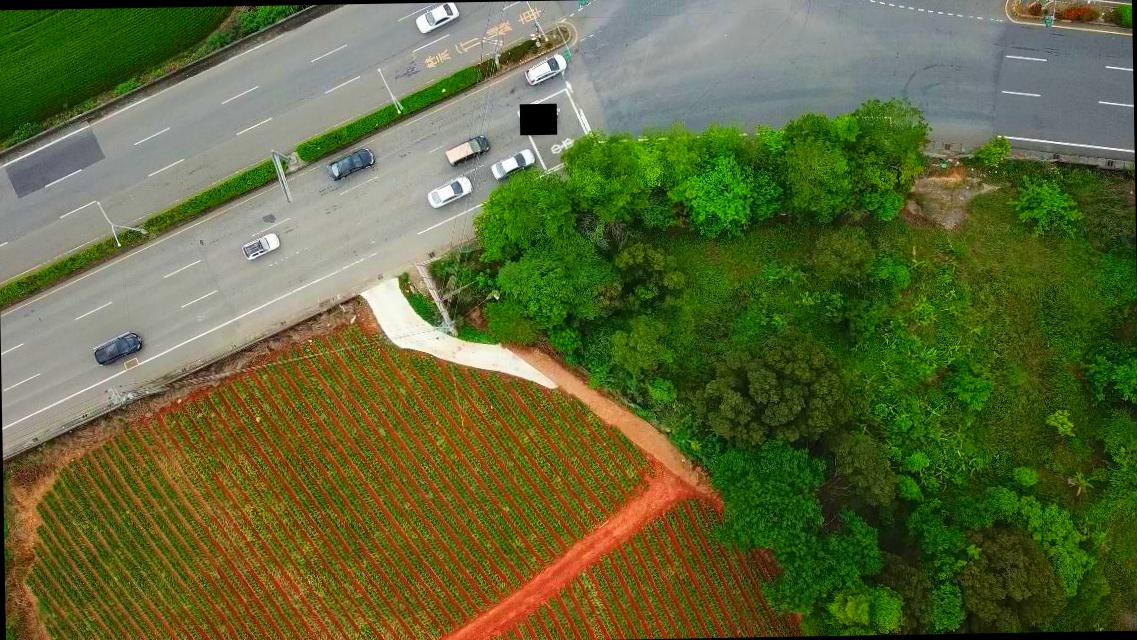vehicle: (93, 332, 145, 367), (426, 174, 476, 210), (489, 146, 535, 184), (326, 148, 375, 182), (523, 52, 568, 88), (413, 2, 463, 34), (444, 134, 490, 166), (242, 234, 280, 262)
